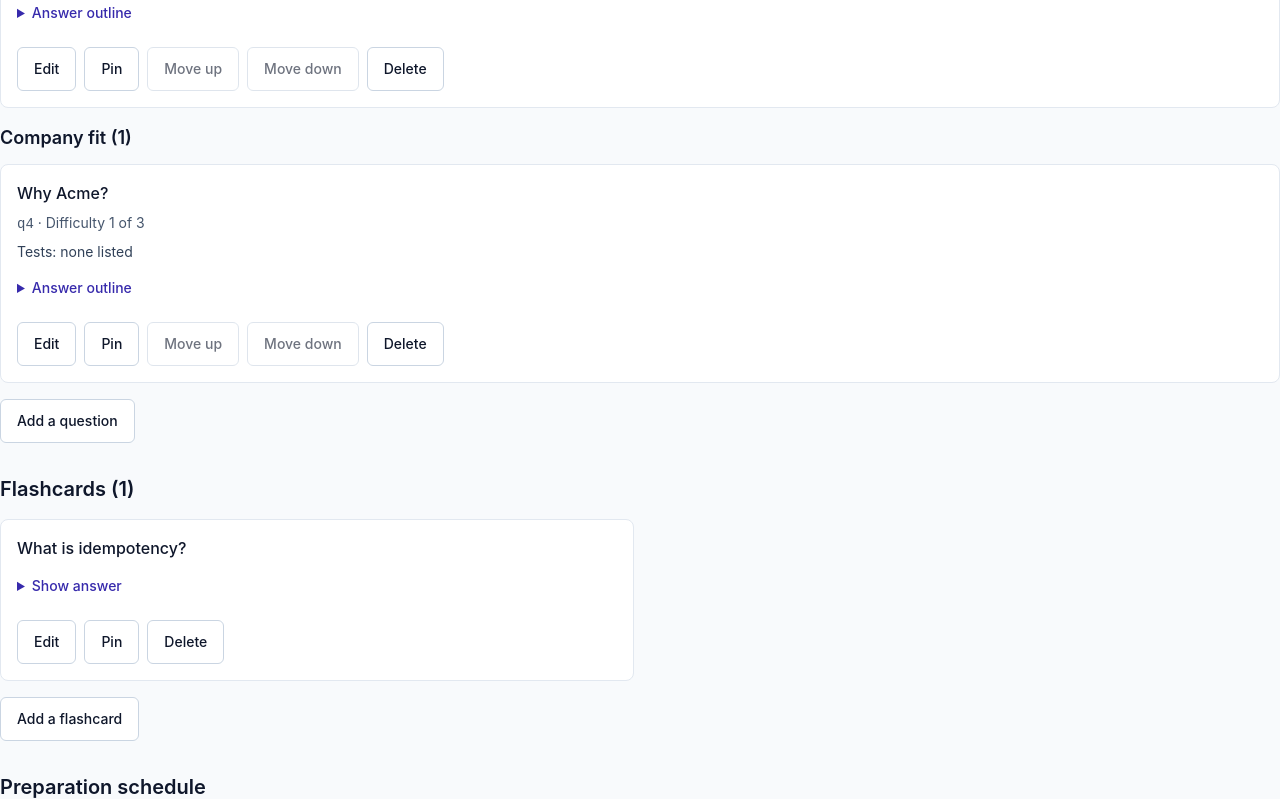
Test: questions › adds a question: placed in its category, marked Added by you, on the chosen day, and saved
(page scrolled)
Click the button "Add a question" at (67, 421), box [0,399,135,443]
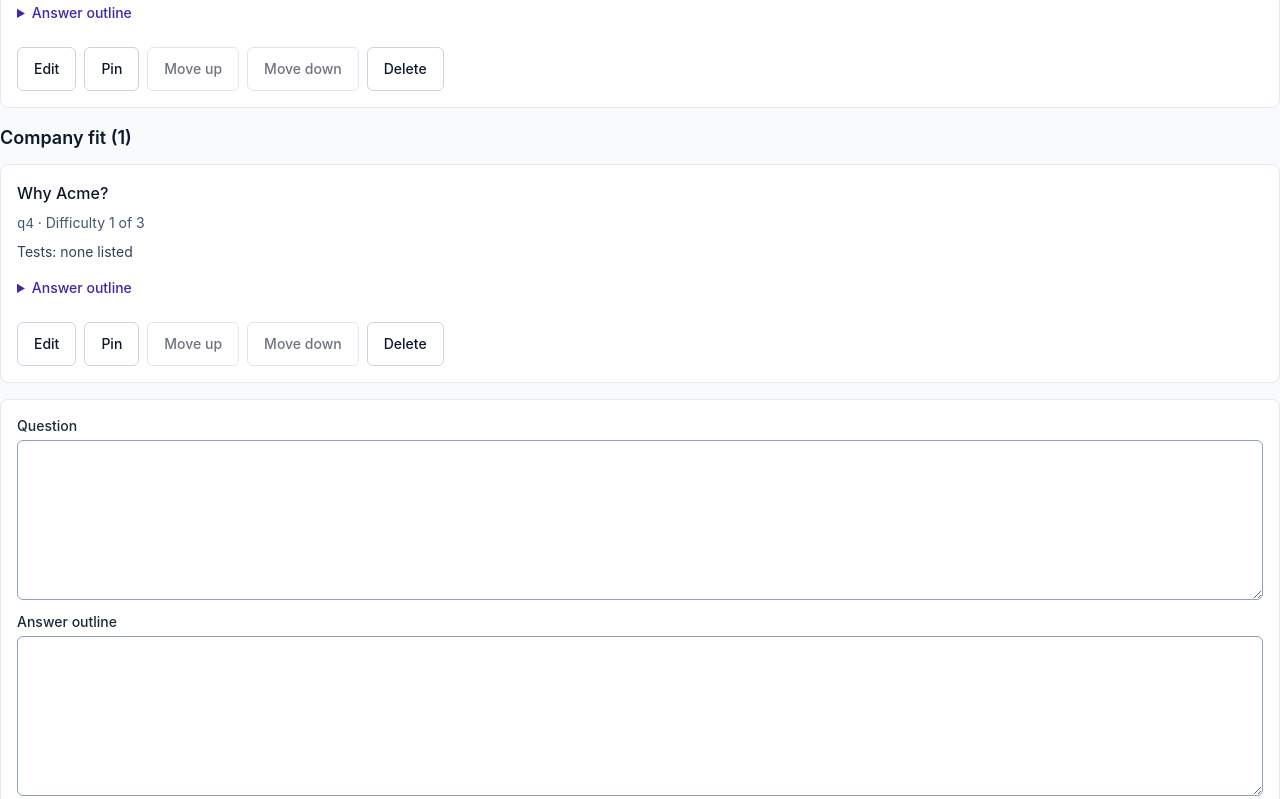
Type "Why do you want this job?" into the text box labelled "Question" at (640, 520), box [17,440,1263,600]
(page scrolled)
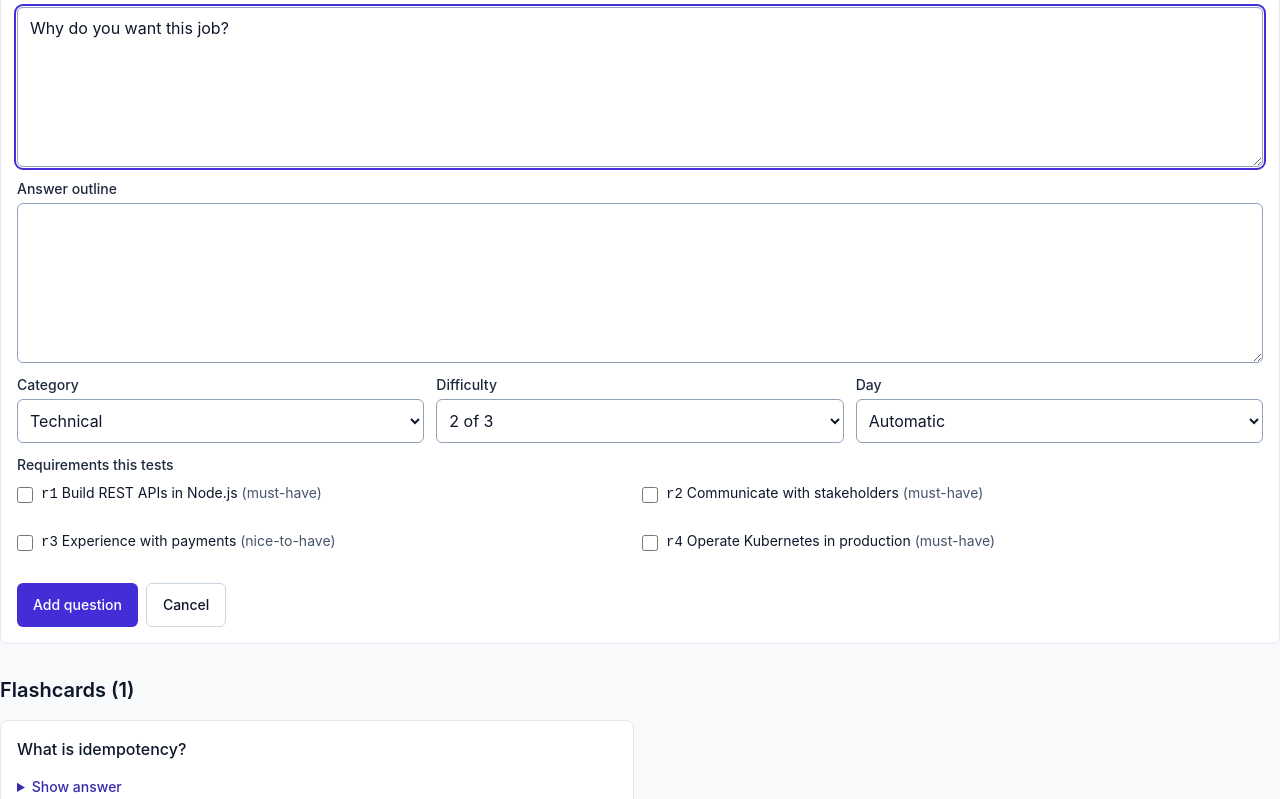
Select "Company fit" in the dropdown labelled "Category" at (221, 421), box [17,399,424,443]
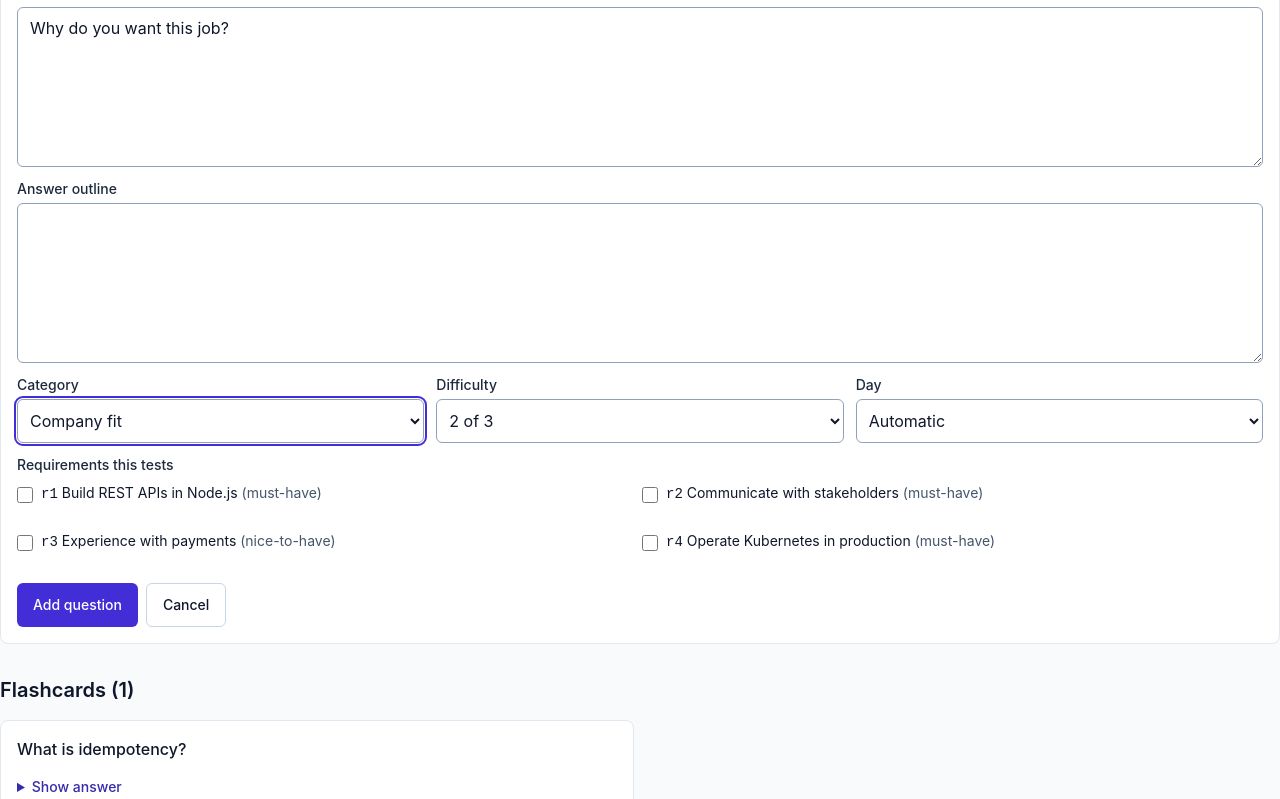
Select "Day 3" in the dropdown labelled "Day" at (1059, 421), box [856,399,1263,443]
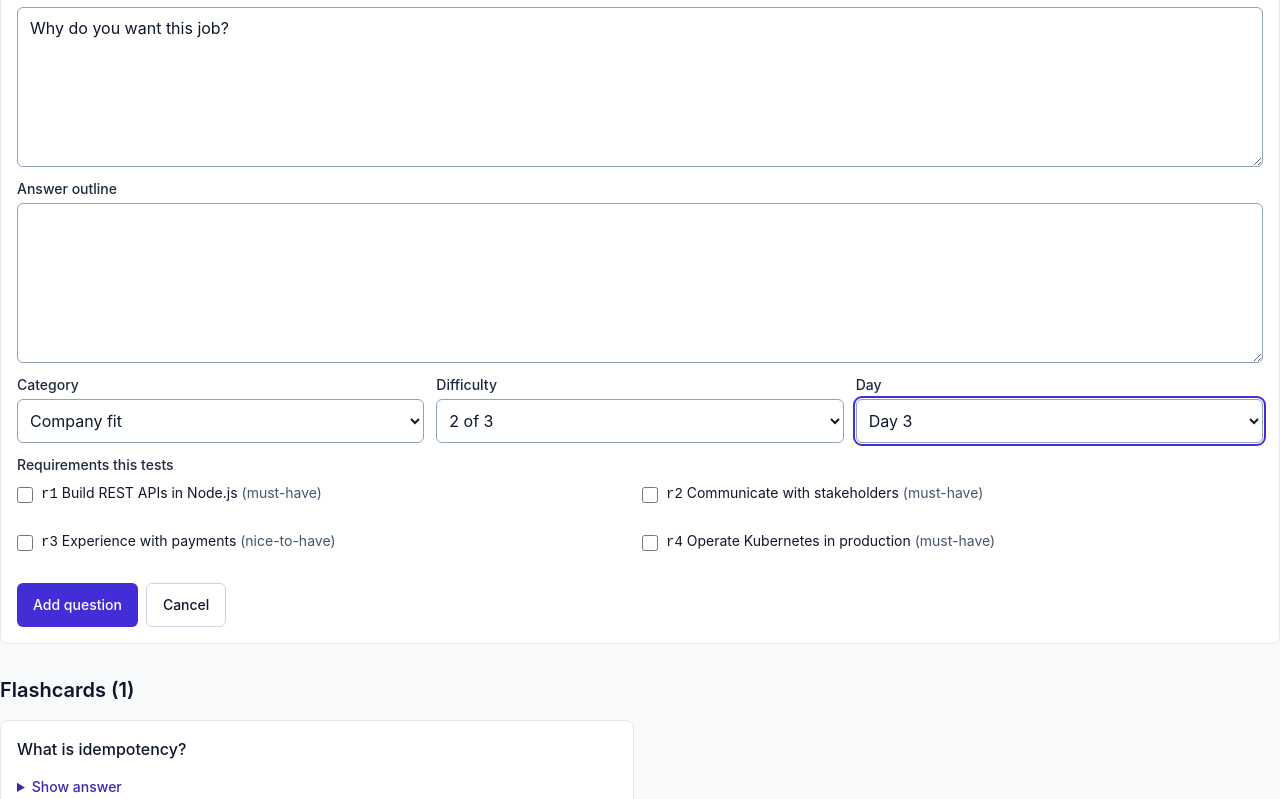
Click the button "Add question" at (77, 605), box [17,583,138,627]
(page scrolled)
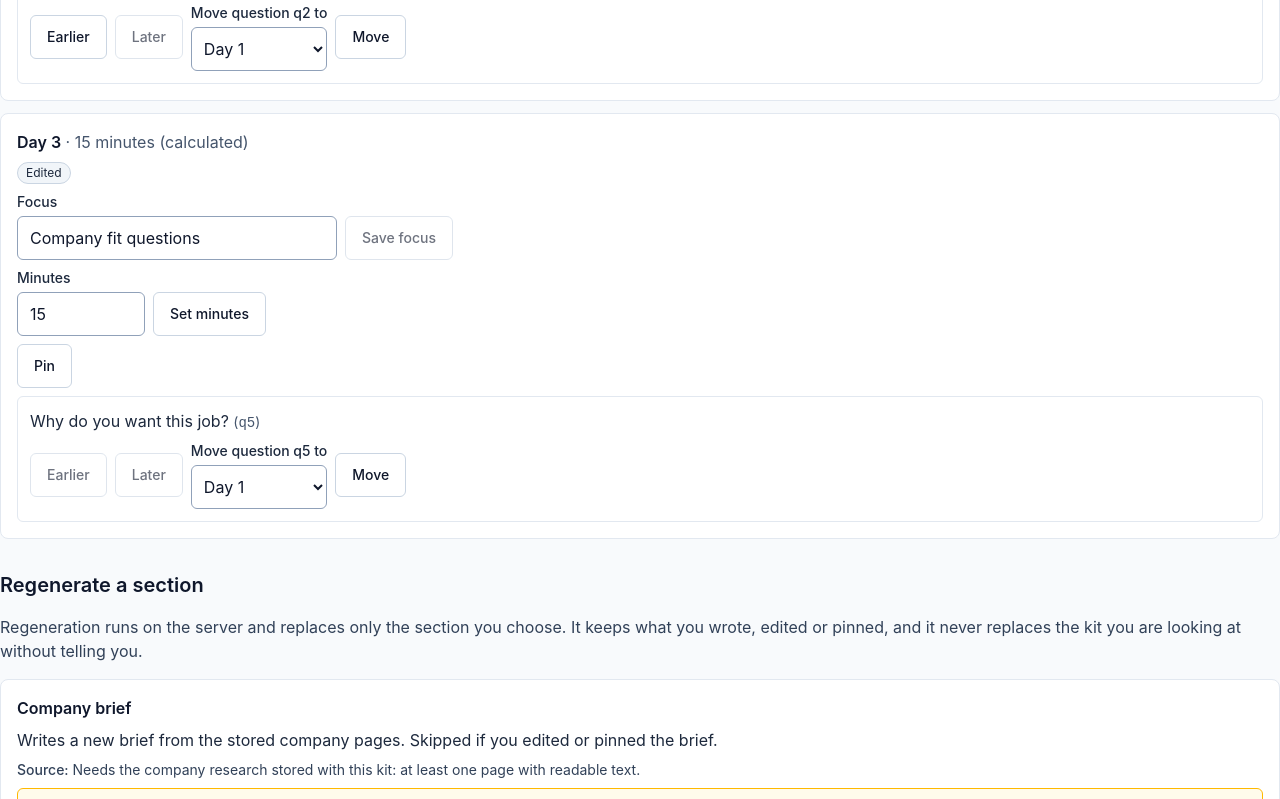
expect the text "Why do you want this job? (q5)" is shown: met, box [30,411,260,431]
